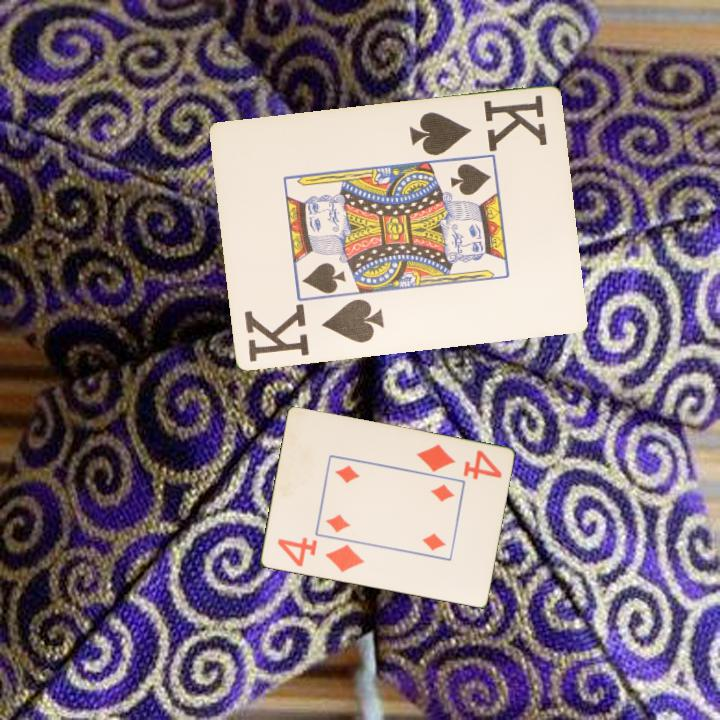4d: (273, 534, 367, 576), (412, 440, 504, 482)
Ks: (240, 296, 387, 365), (405, 91, 550, 159)
